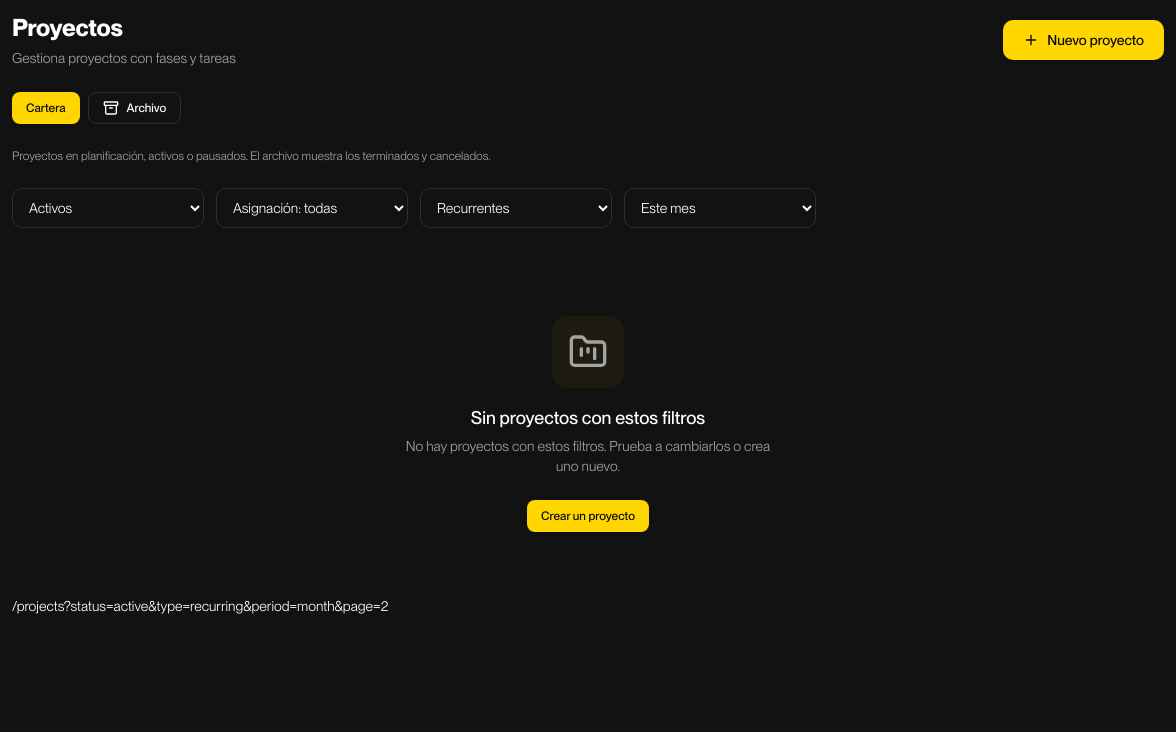
Scenario: projects filter navigation › restores URL filters and resets pagination when the type changes
Step 1. Select "Puntuales" in the dropdown named "Tipo de proyecto" → [516, 208], box [420,188,612,228]
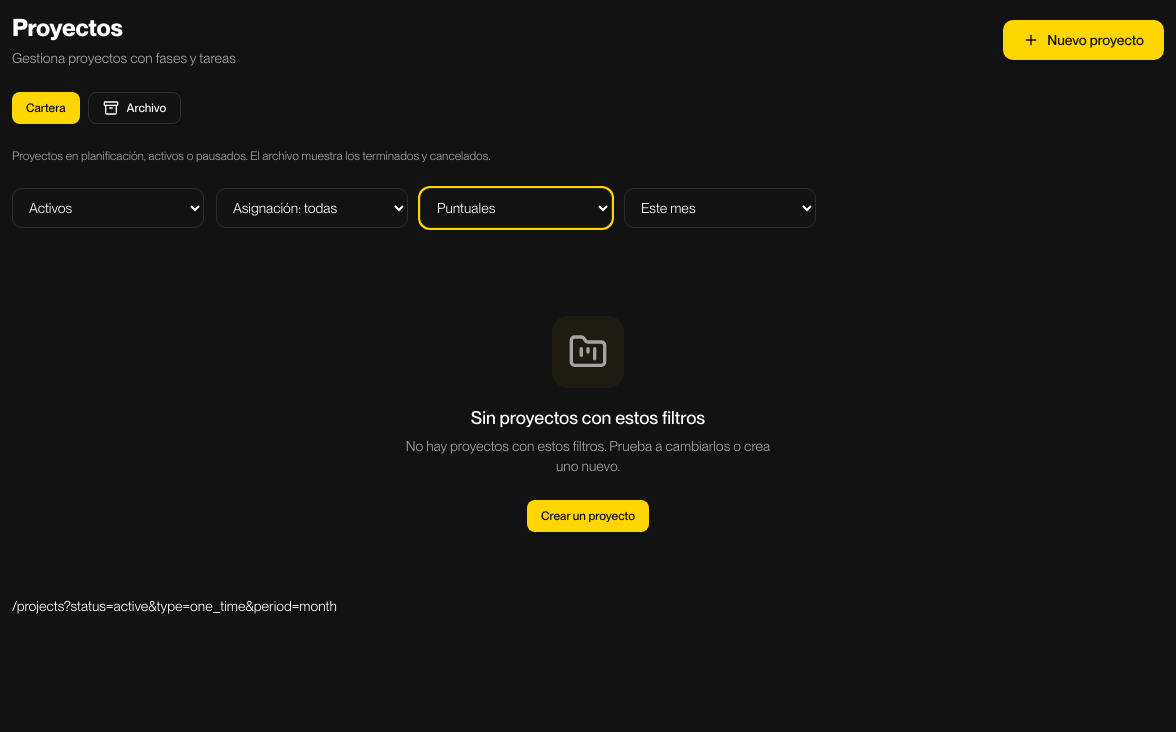
Expected: the text with test id "location" reads "/projects?status=active&type=one_time&period=month", [12,598,337,614]
